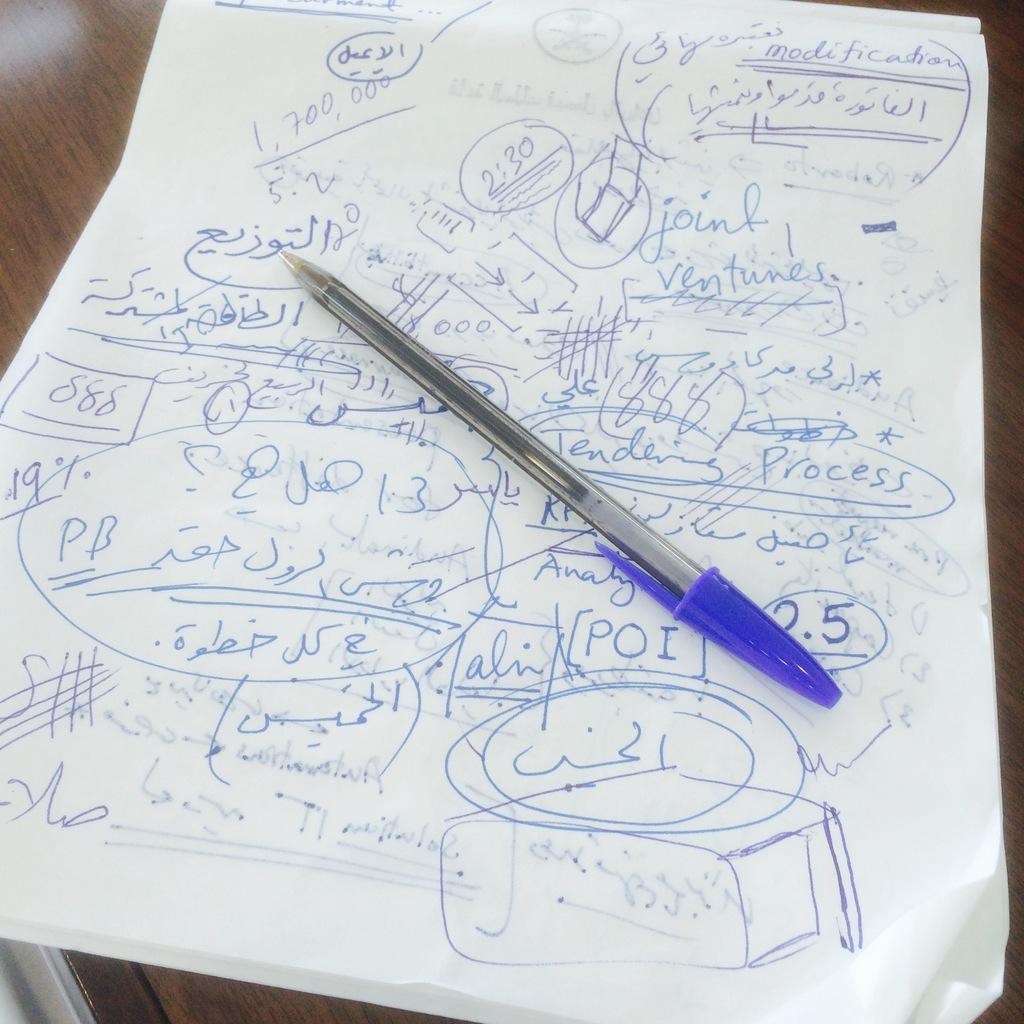pen: (274, 246, 843, 712)
